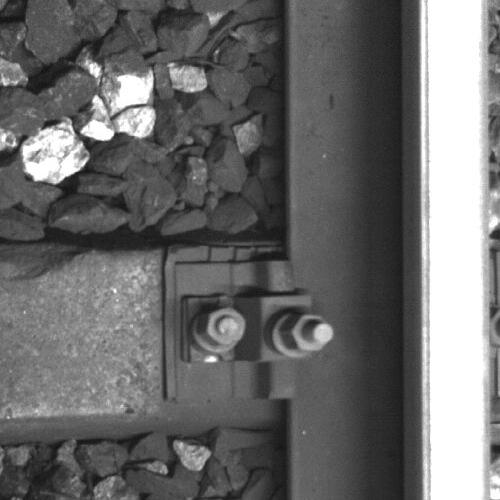kb: (175, 263, 335, 400)
nut: (279, 312, 335, 354), (201, 305, 248, 350)
rail: (419, 1, 491, 500)
tie_concr_destroyed: (1, 250, 288, 418)
